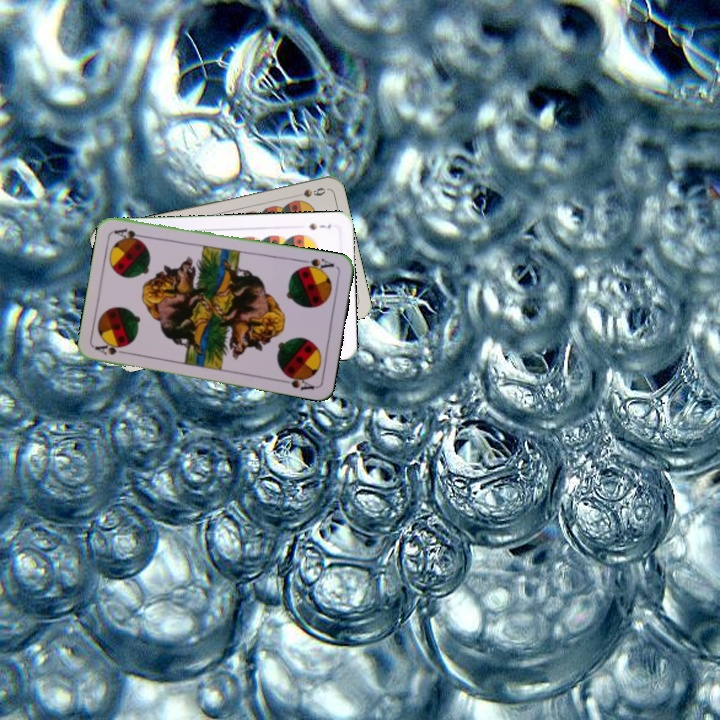S7: (305, 219, 333, 232)
S9: (288, 183, 328, 200)
SA: (297, 254, 336, 274), (91, 339, 132, 358)
